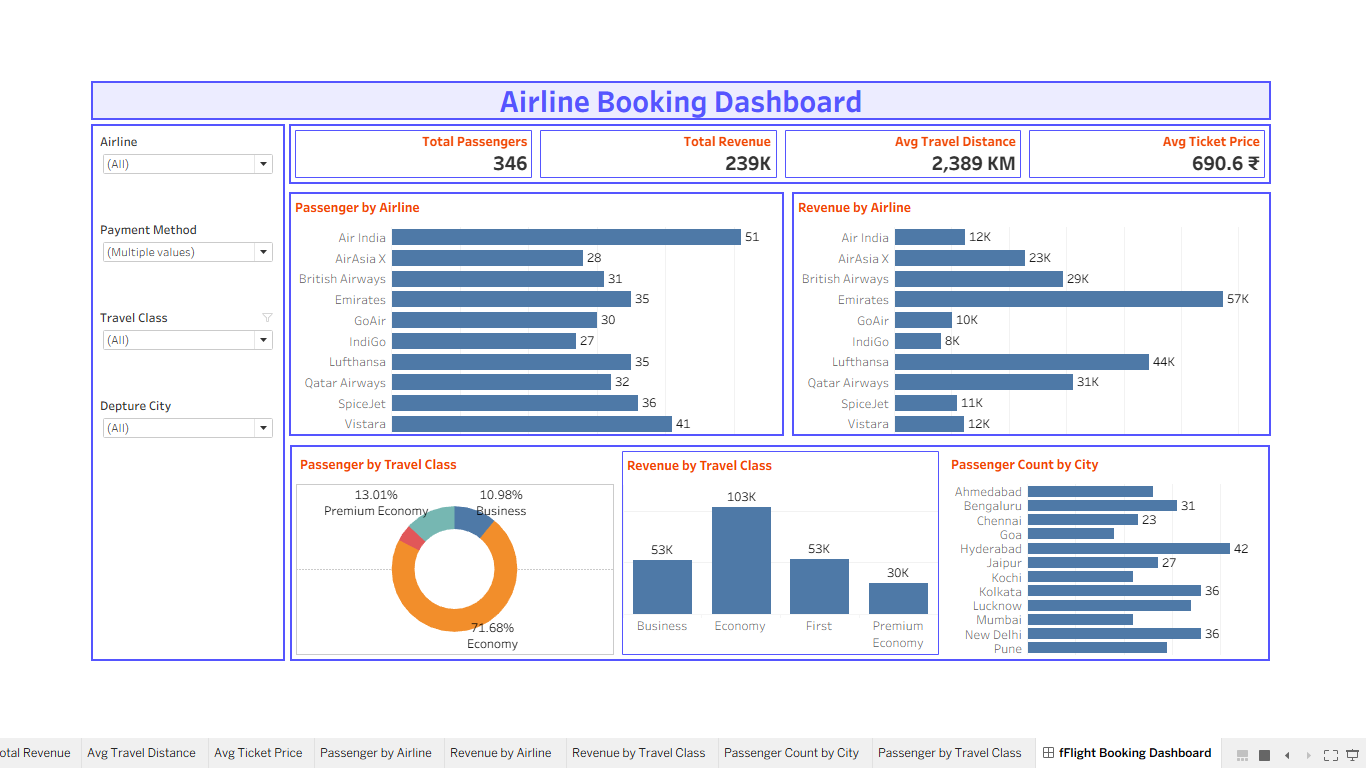

The page's visual inventory and layout, read from the dashboard file:
{"tool":"tableau","page":{"name":"fFlight Booking Dashboard ","canvas":[1200,600],"ordinal":0},"visuals":[{"type":"text","box":[8,8,1184,46.9]},{"type":"worksheet","title":"Total Passengers","mark":"Automatic","box":[208,57,245,56]},{"type":"worksheet","title":"Total Revenue","mark":"Automatic","box":[453,57,245,56]},{"type":"worksheet","title":"Avg Travel Distance","mark":"Automatic","box":[698,57,244,56]},{"type":"worksheet","title":"Avg Ticket Price","mark":"Automatic","box":[942,57,244,56]},{"type":"filter","title":"Passenger by Airline","param":"[federated.1ifynri0cqlgbr16ywdqw1i9xpku].[none:Airline:nk]","box":[13,60,184,88]},{"type":"worksheet","title":"Passenger by Airline","mark":"Bar","rows":["Airline"],"cols":["Calculation_0840046824316928"],"box":[201.7,119,503,251.8]},{"type":"worksheet","title":"Revenue by Airline ","mark":"Bar","rows":["Airline"],"cols":["Calculation_0840046826893313"],"box":[705,119,487,252]},{"type":"filter","title":"Passenger by Airline","param":"[federated.1ifynri0cqlgbr16ywdqw1i9xpku].[none:Payment_Method:nk]","box":[13,148,184,88]},{"type":"filter","title":"Passenger by Airline","param":"[federated.1ifynri0cqlgbr16ywdqw1i9xpku].[none:Travel_Class:nk]","box":[13,236,184,88]},{"type":"filter","title":"Passenger by Airline","param":"[federated.1ifynri0cqlgbr16ywdqw1i9xpku].[none:Depture_City:nk]","box":[13,324,184,88]},{"type":"worksheet","title":"Passenger by Travel Class","mark":"Pie","rows":["Calculation_0840046838439942","Calculation_0840046838439942"],"box":[209,378,326,212]},{"type":"worksheet","title":"Revenue by Travel Class","mark":"Automatic","rows":["Calculation_0840046826893313"],"cols":["Travel_Class"],"box":[535,378,325,212]},{"type":"worksheet","title":"Passenger Count by City","mark":"Automatic","rows":["Depture_City"],"cols":["Calculation_0840046824316928"],"box":[860,378,325,212]}]}

Visuals, with their boxes on the page's 1200x600 design canvas (x1, y1, x2, y2). These are canvas units, not pixel positions in the 1366x768 screenshot, which may show the page scaled, cropped or inside an application window:
text: box(8, 8, 1192, 55)
"Total Passengers" worksheet: box(208, 57, 453, 113)
"Total Revenue" worksheet: box(453, 57, 698, 113)
"Avg Travel Distance" worksheet: box(698, 57, 942, 113)
"Avg Ticket Price" worksheet: box(942, 57, 1186, 113)
"Passenger by Airline" filter: box(13, 60, 197, 148)
"Passenger by Airline" worksheet (Bar marks): box(202, 119, 705, 371)
"Revenue by Airline " worksheet (Bar marks): box(705, 119, 1192, 371)
"Passenger by Airline" filter: box(13, 148, 197, 236)
"Passenger by Airline" filter: box(13, 236, 197, 324)
"Passenger by Airline" filter: box(13, 324, 197, 412)
"Passenger by Travel Class" worksheet (Pie marks): box(209, 378, 535, 590)
"Revenue by Travel Class" worksheet: box(535, 378, 860, 590)
"Passenger Count by City" worksheet: box(860, 378, 1185, 590)
